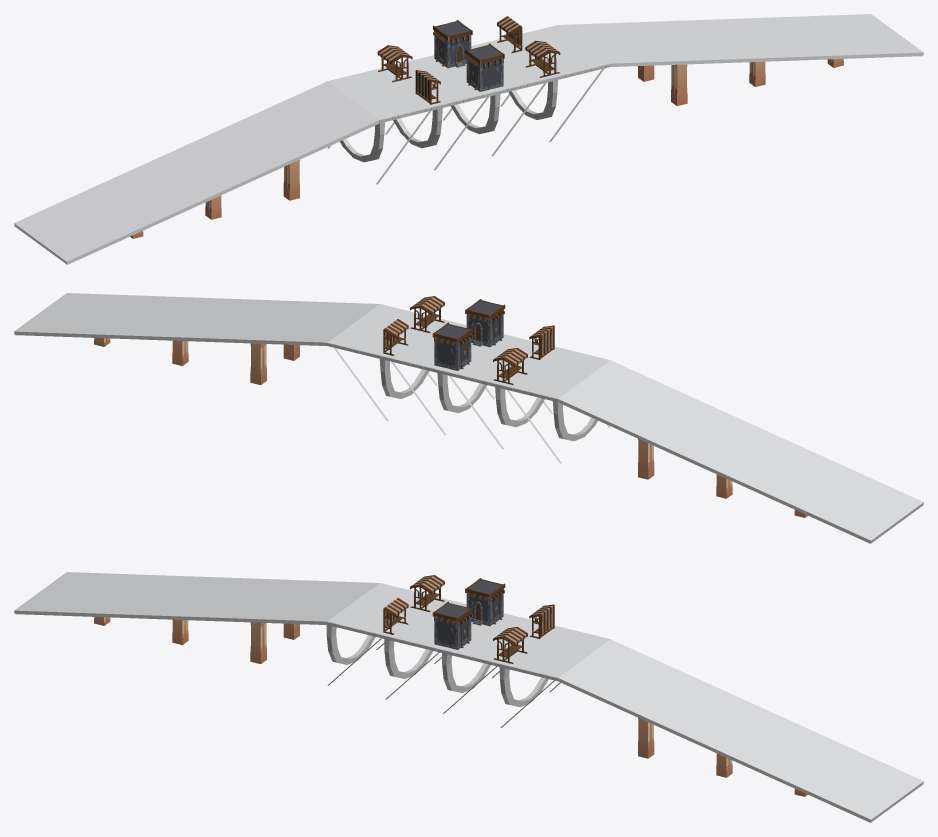
File: london_landmark_full.glb
3 renders of one model, top to bottom at view 1: azimuth 30°, elevation 25°; view 2: azimuth 150°, elevation 25°; view 3: azimuth 330°, elevation 25°, orthographic.
Visible parts, largest first — view 1: Stone approach ramp (×2), Continuous stone deck (×4), Stone bridge span (×4), House_4 (×2), MarketStand_1 (×2), Stone approach pier (×2), MarketStand_2 (×2); view 2: Stone approach ramp (×2), Continuous stone deck (×4), Stone bridge span (×4), House_4 (×2), MarketStand_1 (×2), Stone approach pier (×2), MarketStand_2 (×2); view 3: Stone approach ramp (×2), Continuous stone deck (×4), Stone bridge span (×4), House_4 (×2), MarketStand_1 (×2), Stone approach pier (×2), MarketStand_2 (×2).
Part boxes in pixels (x1=…): Stone approach ramp (×2): x1=14, y1=14, x2=923, y2=264; Continuous stone deck (×4): x1=327, y1=25, x2=610, y2=121; Stone bridge span (×4): x1=327, y1=64, x2=611, y2=184; House_4 (×2): x1=433, y1=20, x2=504, y2=91; MarketStand_1 (×2): x1=377, y1=40, x2=560, y2=82; Stone approach pier (×2): x1=283, y1=64, x2=687, y2=200; MarketStand_2 (×2): x1=415, y1=16, x2=522, y2=104; Stone approach ramp (×2): x1=14, y1=293, x2=923, y2=543; Continuous stone deck (×4): x1=327, y1=304, x2=610, y2=400; Stone bridge span (×4): x1=326, y1=343, x2=610, y2=463; House_4 (×2): x1=432, y1=299, x2=505, y2=370; MarketStand_1 (×2): x1=410, y1=296, x2=527, y2=384; Stone approach pier (×2): x1=250, y1=343, x2=654, y2=479; MarketStand_2 (×2): x1=383, y1=319, x2=554, y2=359; Stone approach ramp (×2): x1=14, y1=572, x2=923, y2=822; Continuous stone deck (×4): x1=327, y1=583, x2=610, y2=680; Stone bridge span (×4): x1=326, y1=622, x2=560, y2=727; House_4 (×2): x1=432, y1=578, x2=505, y2=649; MarketStand_1 (×2): x1=410, y1=575, x2=527, y2=663; Stone approach pier (×2): x1=250, y1=622, x2=654, y2=758; MarketStand_2 (×2): x1=383, y1=598, x2=554, y2=638.
Size of the model in its own units: 65.68 by 7.4 by 7.07.
16 materials, 1 textured.
